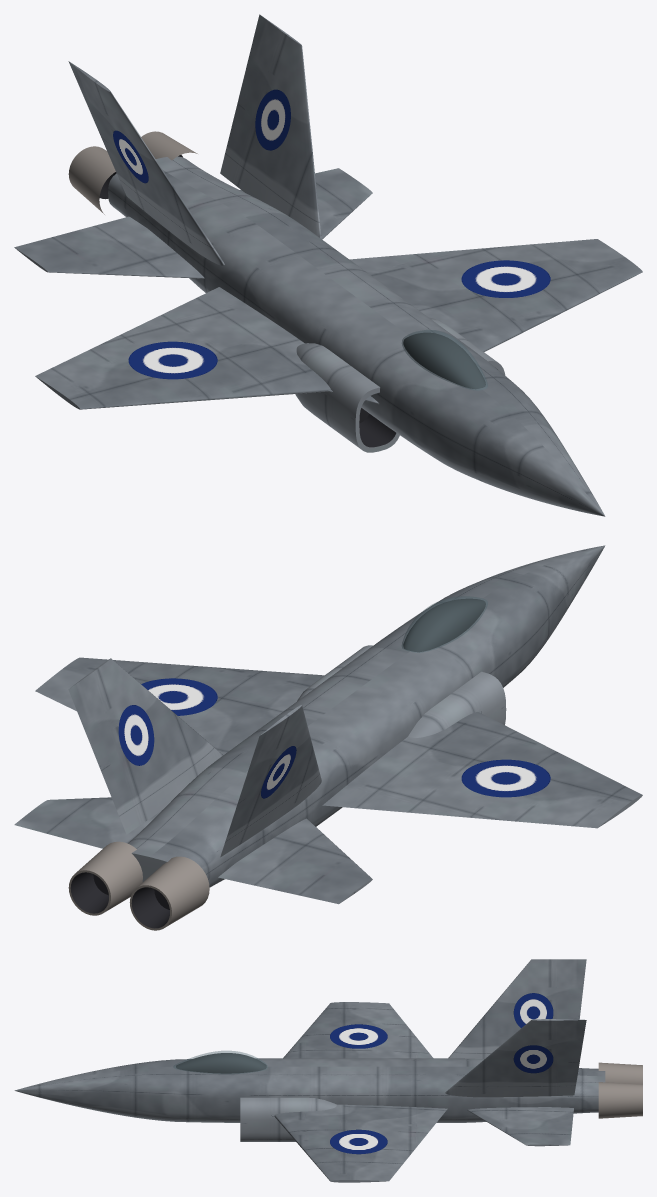
Rendered from 50_F-18MLU2.glb.
The picture shows the model from 3 angles, top to bottom: view 1: azimuth 30°, elevation 25°; view 2: azimuth 150°, elevation 25°; view 3: azimuth 270°, elevation 25°; orthographic projection. The views are drawn at different scales.
Visible parts, largest first — view 1: Fuselage, Wing0_R, Wing0_L, Fin3_L, Htail2_R, Fin3_R, Intake_R, Canopy, Decal_Wing_U_R, Decal_Wing_U_L, Cockpit, Htail2_L (+4 smaller); view 2: Fuselage, Wing0_R, Fin3_L, Wing0_L, Htail2_R, Fin3_R, Htail2_L, Nozzle_R, Nozzle_L, Intake_R, Canopy, Decal_Wing_U_R (+4 smaller); view 3: Fuselage, Wing0_L, Fin3_L, Fin3_R, Wing0_R, Htail2_L, Intake_L, Canopy, Nozzle_L, Cockpit, Decal_Wing_U_R, Decal_Wing_U_L (+3 smaller).
Boxes of the visible parts, x1=… form: Fuselage: x1=108, y1=156, x2=605, y2=516; Wing0_R: x1=35, y1=287, x2=330, y2=409; Wing0_L: x1=349, y1=239, x2=642, y2=351; Fin3_L: x1=220, y1=14, x2=321, y2=238; Htail2_R: x1=14, y1=216, x2=204, y2=278; Fin3_R: x1=68, y1=61, x2=224, y2=265; Intake_R: x1=295, y1=343, x2=399, y2=452; Canopy: x1=402, y1=330, x2=487, y2=390; Decal_Wing_U_R: x1=128, y1=341, x2=217, y2=379; Decal_Wing_U_L: x1=461, y1=260, x2=550, y2=297; Cockpit: x1=403, y1=332, x2=485, y2=389; Htail2_L: x1=240, y1=168, x2=372, y2=239; Fuselage: x1=128, y1=545, x2=605, y2=887; Wing0_R: x1=322, y1=712, x2=642, y2=828; Fin3_L: x1=68, y1=658, x2=223, y2=834; Wing0_L: x1=35, y1=657, x2=324, y2=754; Htail2_R: x1=218, y1=818, x2=372, y2=904; Fin3_R: x1=220, y1=705, x2=321, y2=857; Htail2_L: x1=14, y1=797, x2=162, y2=848; Nozzle_R: x1=129, y1=856, x2=209, y2=930; Nozzle_L: x1=68, y1=841, x2=142, y2=915; Intake_R: x1=408, y1=671, x2=506, y2=737; Canopy: x1=402, y1=596, x2=487, y2=652; Decal_Wing_U_R: x1=461, y1=759, x2=550, y2=797; Fuselage: x1=14, y1=1058, x2=605, y2=1122; Wing0_L: x1=274, y1=1104, x2=447, y2=1182; Fin3_L: x1=445, y1=1019, x2=586, y2=1097; Fin3_R: x1=448, y1=959, x2=586, y2=1059; Wing0_R: x1=283, y1=1002, x2=433, y2=1058; Htail2_L: x1=467, y1=1107, x2=573, y2=1146; Intake_L: x1=240, y1=1097, x2=336, y2=1141; Canopy: x1=173, y1=1051, x2=267, y2=1073; Nozzle_L: x1=598, y1=1082, x2=642, y2=1118; Cockpit: x1=176, y1=1053, x2=266, y2=1073; Decal_Wing_U_R: x1=330, y1=1024, x2=387, y2=1048; Decal_Wing_U_L: x1=330, y1=1129, x2=387, y2=1154.
Size of the model in its own units: 11.43 by 4.01 by 17.07.
Materials: 6 (2 with a texture image).
